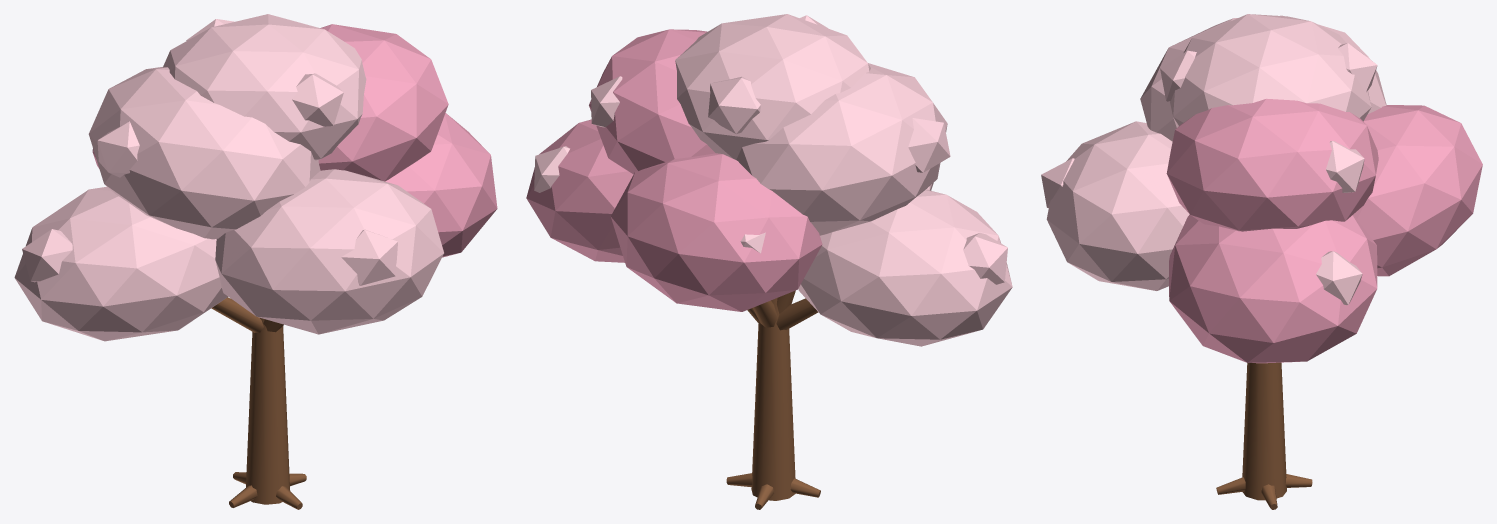
Rendered from tree_cherry_blossom.glb.
3 views of the same model, side by side, from view 1: azimuth 30°, elevation 25°; view 2: azimuth 150°, elevation 25°; view 3: azimuth 270°, elevation 25° (orthographic).
Parts seen in each view (by area): view 1: Cherry_Blossoms_02, Cherry_Blossoms_04, Cherry_Blossoms_00, Cherry_Blossoms_06, Cherry_Blossoms_05, Cherry_Blossoms_01, Cherry_Trunk, Cherry_Blossom_Puff_2_1, Cherry_Blossom_Puff_6_0, Cherry_Blossom_Puff_0_1, Cherry_Blossom_Puff_4_0, Cherry_Bough_00; view 2: Cherry_Blossoms_03, Cherry_Blossoms_00, Cherry_Blossoms_04, Cherry_Blossoms_06, Cherry_Blossoms_05, Cherry_Blossoms_01, Cherry_Trunk, Cherry_Blossom_Puff_6_1, Cherry_Blossom_Puff_4_0, Cherry_Blossom_Puff_0_1, Cherry_Blossom_Puff_5_1, Cherry_Blossom_Puff_1_0 (+1 smaller); view 3: Cherry_Blossoms_01, Cherry_Blossoms_05, Cherry_Blossoms_02, Cherry_Blossoms_03, Cherry_Blossoms_06, Cherry_Trunk, Cherry_Blossoms_04, Cherry_Blossom_Puff_1_0, Cherry_Blossom_Puff_5_1, Cherry_Blossom_Puff_6_1, Cherry_Blossom_Puff_6_0, Cherry_Blossom_Puff_2_1.
Part boxes in pixels (x1,y1,x2,y2): Cherry_Blossoms_02: (215, 169, 443, 334); Cherry_Blossoms_04: (88, 67, 320, 239); Cherry_Blossoms_00: (14, 186, 227, 341); Cherry_Blossoms_06: (163, 14, 366, 160); Cherry_Blossoms_05: (318, 24, 448, 181); Cherry_Blossoms_01: (385, 113, 497, 257); Cherry_Trunk: (246, 318, 290, 504); Cherry_Blossom_Puff_2_1: (341, 229, 397, 285); Cherry_Blossom_Puff_6_0: (292, 73, 343, 126); Cherry_Blossom_Puff_0_1: (22, 229, 72, 282); Cherry_Blossom_Puff_4_0: (97, 121, 139, 177); Cherry_Bough_00: (211, 297, 263, 332); Cherry_Blossoms_03: (610, 153, 822, 311); Cherry_Blossoms_00: (798, 189, 1012, 346); Cherry_Blossoms_04: (736, 63, 947, 235); Cherry_Blossoms_06: (675, 14, 870, 159); Cherry_Blossoms_05: (589, 29, 715, 174); Cherry_Blossoms_01: (526, 119, 633, 262); Cherry_Trunk: (751, 298, 795, 500); Cherry_Blossom_Puff_6_1: (708, 76, 760, 133); Cherry_Blossom_Puff_4_0: (908, 118, 950, 172); Cherry_Blossom_Puff_0_1: (963, 233, 1007, 284); Cherry_Blossom_Puff_5_1: (591, 76, 622, 127); Cherry_Blossom_Puff_1_0: (534, 146, 569, 192); Cherry_Blossoms_01: (1169, 214, 1377, 363); Cherry_Blossoms_05: (1166, 98, 1378, 231); Cherry_Blossoms_02: (1046, 121, 1189, 290); Cherry_Blossoms_03: (1353, 105, 1482, 276); Cherry_Blossoms_06: (1170, 14, 1371, 127); Cherry_Trunk: (1242, 362, 1286, 500); Cherry_Blossoms_04: (1140, 15, 1386, 141); Cherry_Blossom_Puff_1_0: (1316, 251, 1362, 305); Cherry_Blossom_Puff_5_1: (1326, 141, 1364, 192); Cherry_Blossom_Puff_6_1: (1338, 43, 1377, 92); Cherry_Blossom_Puff_6_0: (1160, 50, 1196, 101); Cherry_Blossom_Puff_2_1: (1041, 158, 1074, 208).
Size of the model in its own units: 6.03 by 5.85 by 5.06.
